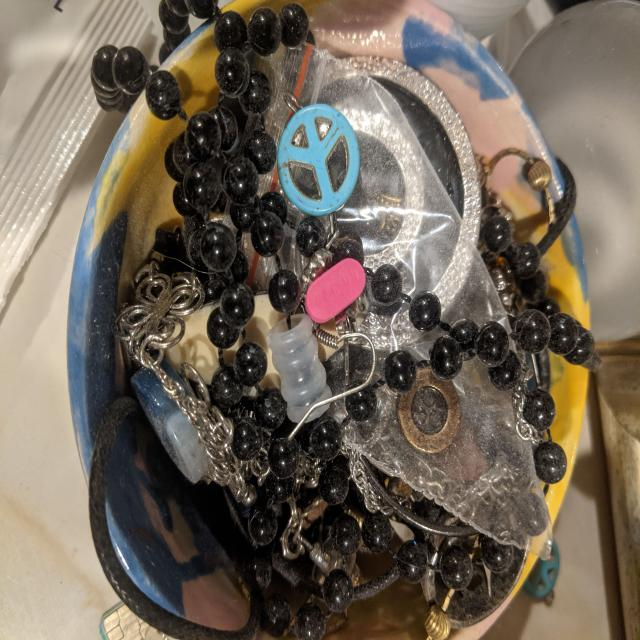non-organic waste: (304, 256, 367, 325)
